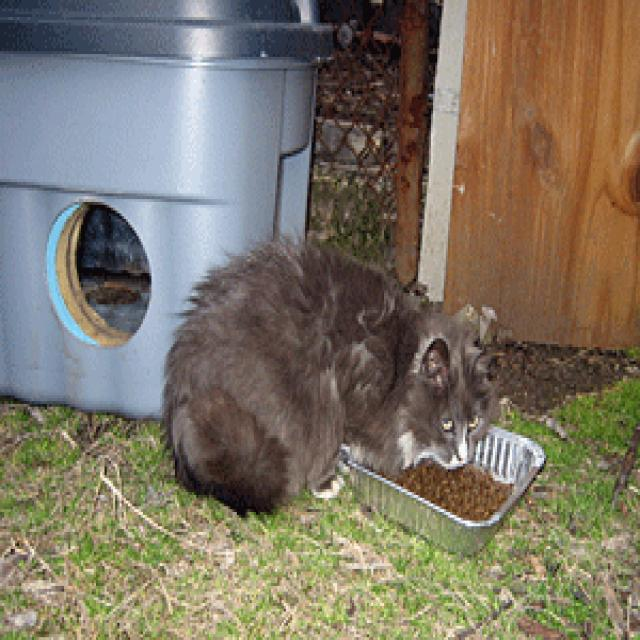cat: (164, 243, 496, 512)
